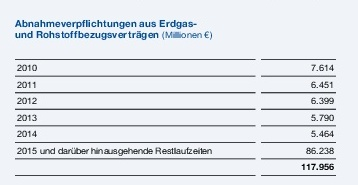table: (0, 0, 358, 185)
